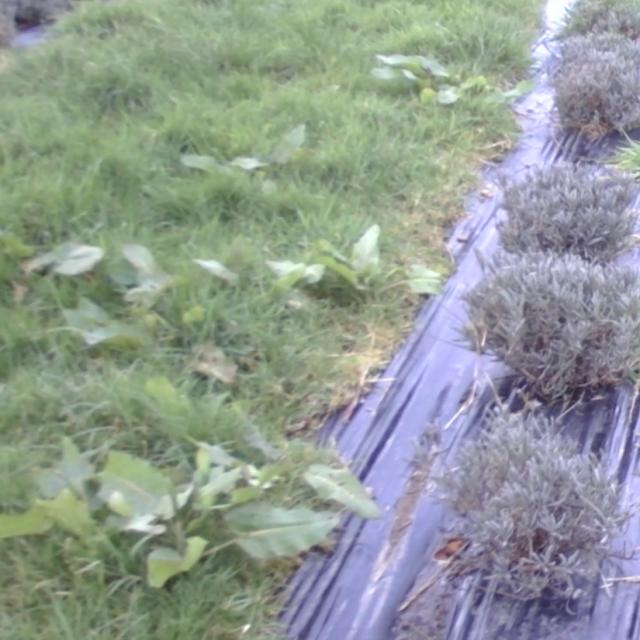organic waste: (33, 422, 385, 593), (19, 228, 232, 351), (168, 114, 321, 224), (264, 220, 435, 318), (357, 28, 478, 125)
